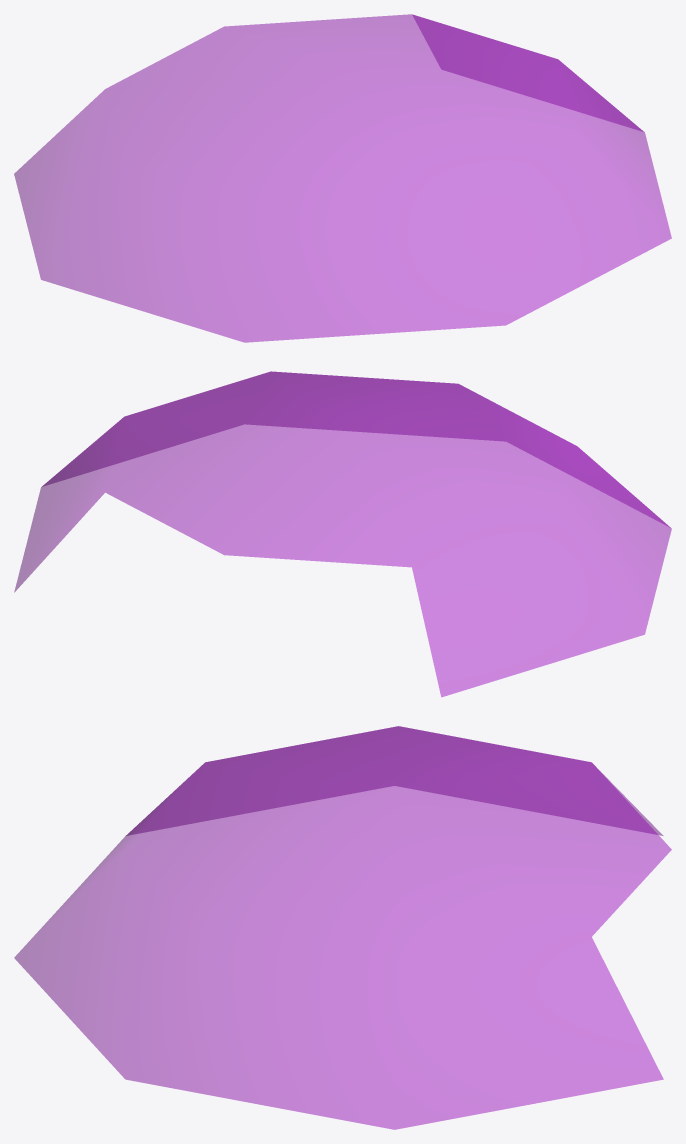
The model's file is dum_mis_spps1.gltf.
3 views of the same model, one above another, from view 1: azimuth 30°, elevation 25°; view 2: azimuth 150°, elevation 25°; view 3: azimuth 270°, elevation 25° (orthographic). The views are drawn at different scales.
Visible parts, largest first — view 1: dum_mis_spps1; view 2: dum_mis_spps1; view 3: dum_mis_spps1.
Part boxes in pixels (bbox=[...]): dum_mis_spps1: bbox=[14, 14, 671, 342]; dum_mis_spps1: bbox=[14, 371, 671, 696]; dum_mis_spps1: bbox=[14, 726, 671, 1129].
Size of the model in its own units: 0.5425 by 0.1174 by 0.4385.
